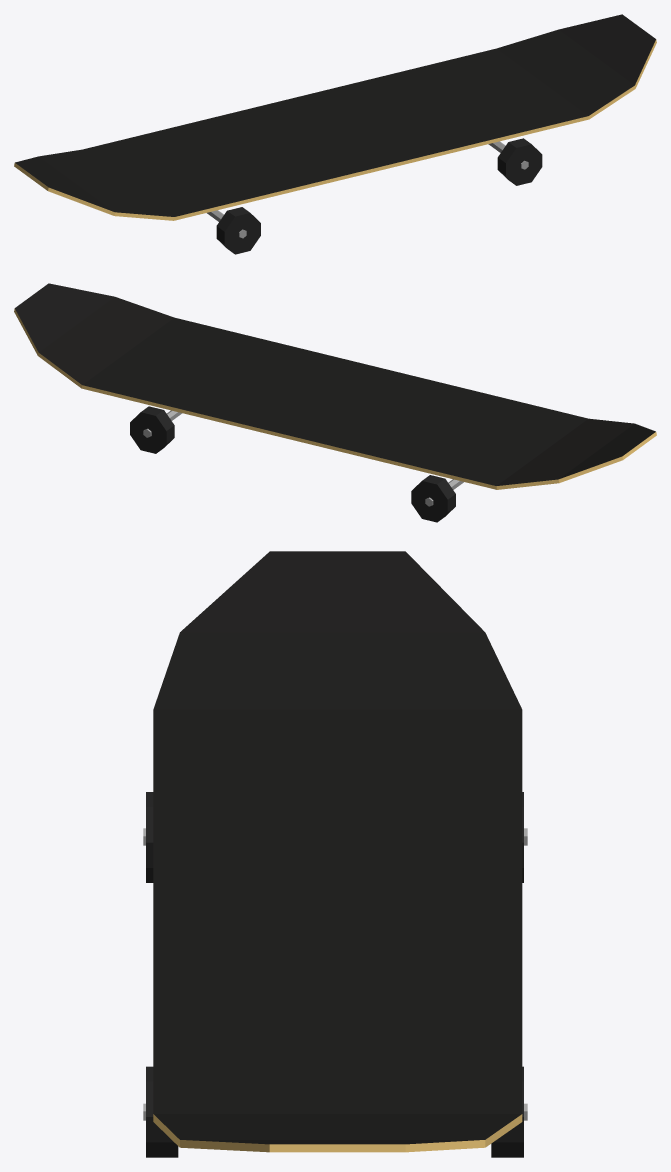
File: fix.fbx
3 renders of one model, top to bottom at view 1: azimuth 30°, elevation 25°; view 2: azimuth 150°, elevation 25°; view 3: azimuth 270°, elevation 25°, orthographic. The views are drawn at different scales.
Visible parts, largest first — view 1: Plane; view 2: Plane; view 3: Plane.
Boxes of the visible parts, x1,y1,x2,y2 form: Plane: (14, 14, 656, 254); Plane: (14, 283, 656, 522); Plane: (143, 551, 527, 1157).
Bounding box in the file's own units: 444 × 57.39 × 121.
